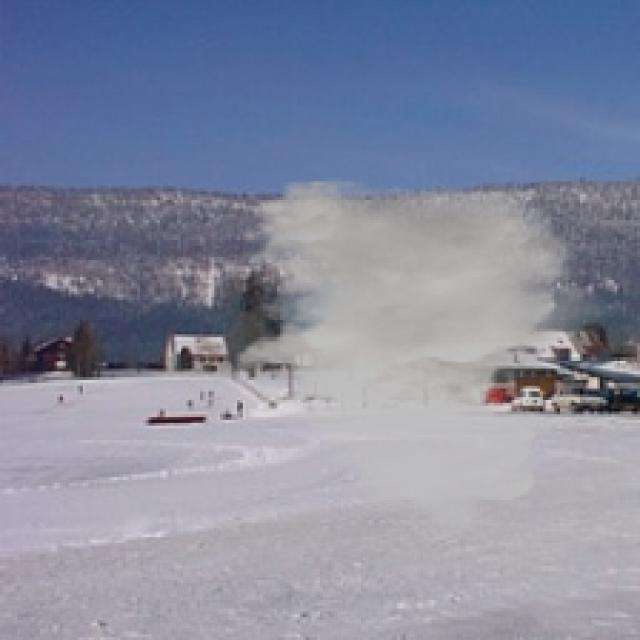smoke: (234, 177, 620, 549)
